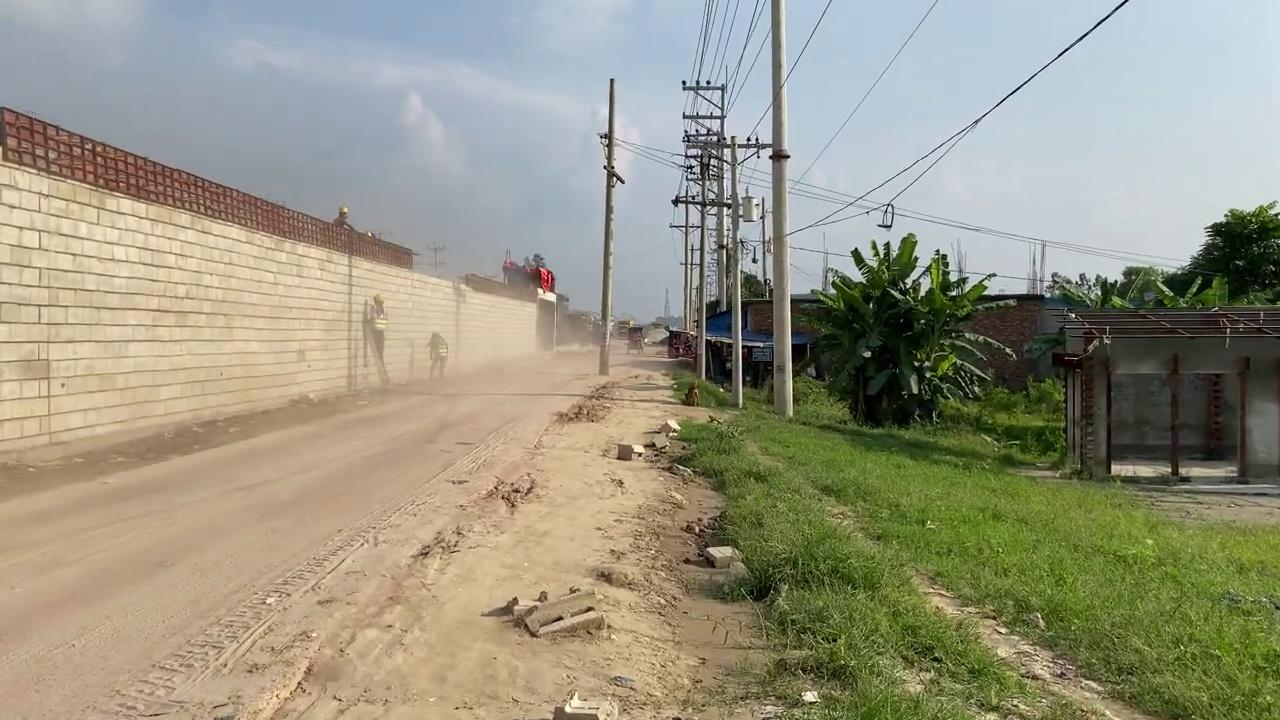Dog: (682, 383, 700, 407)
Pole: (768, 0, 793, 419), (597, 77, 616, 375), (728, 135, 743, 408)
Rickshaw: (377, 342, 765, 720)
Traffic-sign: (797, 231, 1017, 428), (1181, 199, 1279, 304)
Upstairs: (0, 105, 554, 454)
